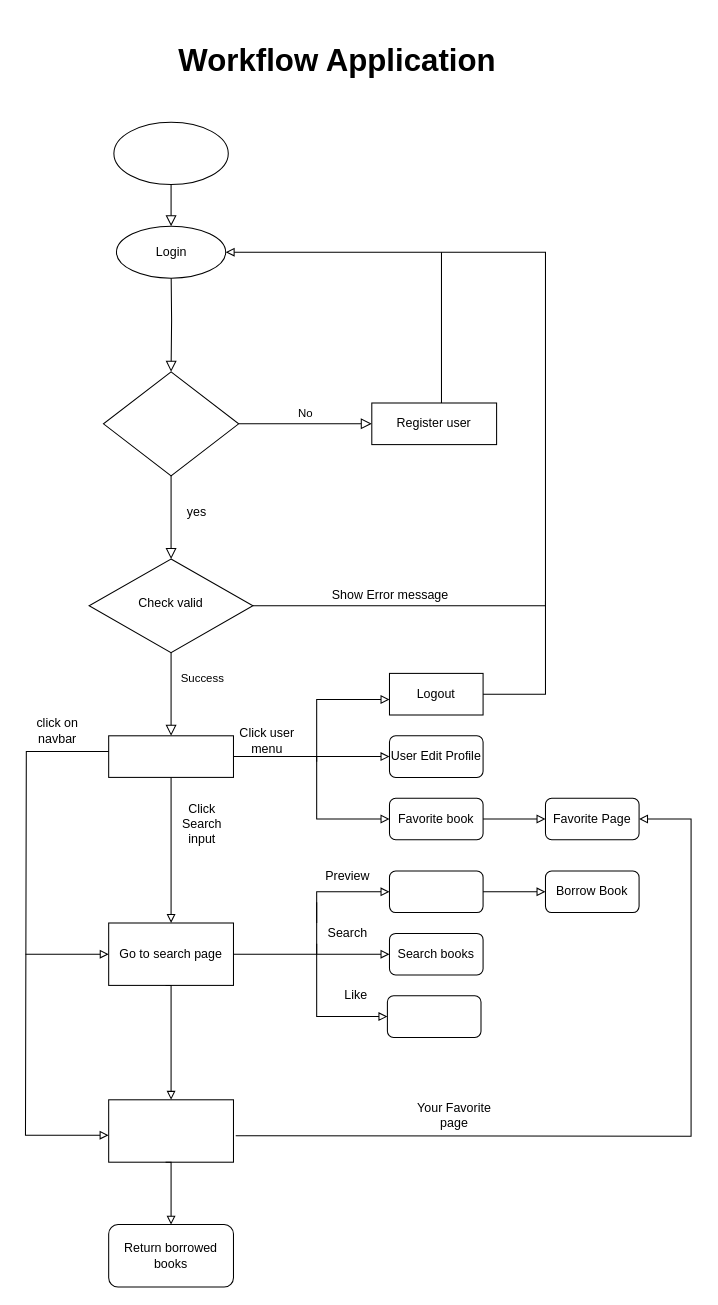
This 718x1305 diagram has some shape labels left out. Each missing label, with the centre of its shape:
"Add to Favorite" goes at pixel 433 1016.
"Book Detail" goes at pixel 435 891.
"Have account ?" goes at pixel 170 423.
"Home page" goes at pixel 170 756.
"Myself" goes at pixel 170 1130.
"Start" goes at pixel 170 153.
